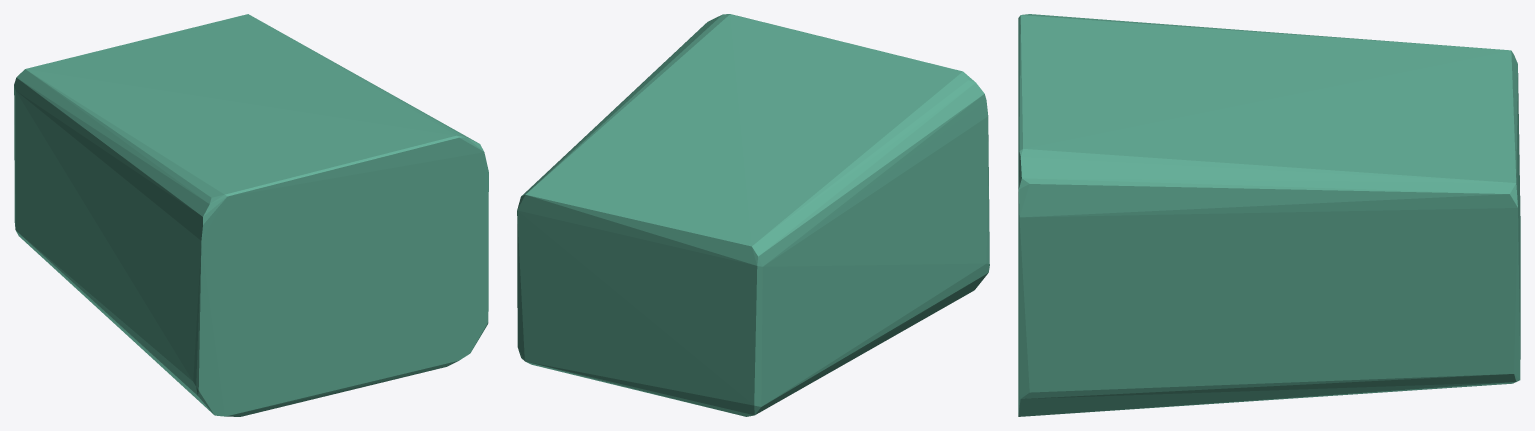
File: trashCan_office_beige_a03.glb
The picture shows the model from 3 angles, left to right: view 1: azimuth 30°, elevation 25°; view 2: azimuth 150°, elevation 25°; view 3: azimuth 270°, elevation 25°; orthographic projection. The views are drawn at different scales.
Parts seen in each view (by area): view 1: geometry_0; view 2: geometry_0; view 3: geometry_0.
Boxes of the visible parts, bbox=[...] form: geometry_0: bbox=[14, 14, 488, 416]; geometry_0: bbox=[517, 14, 989, 416]; geometry_0: bbox=[1018, 14, 1520, 416].
Bounding box in the file's own units: 0.3838 × 0.2865 × 0.48.
